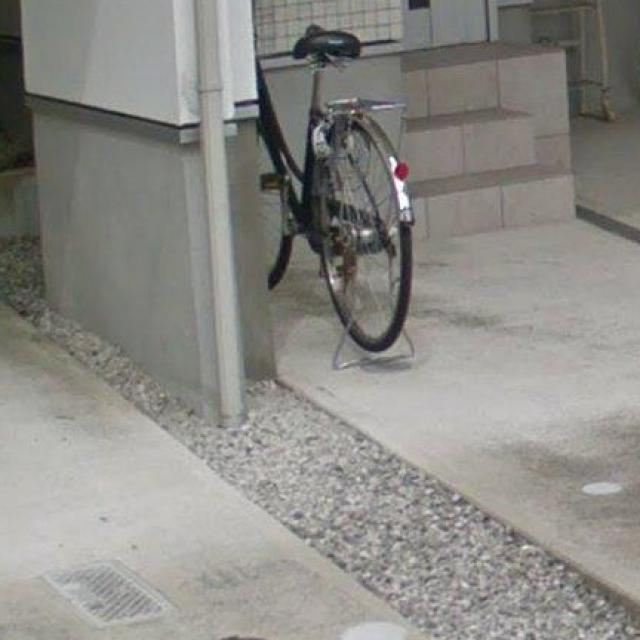bicycle: (209, 11, 448, 390)
